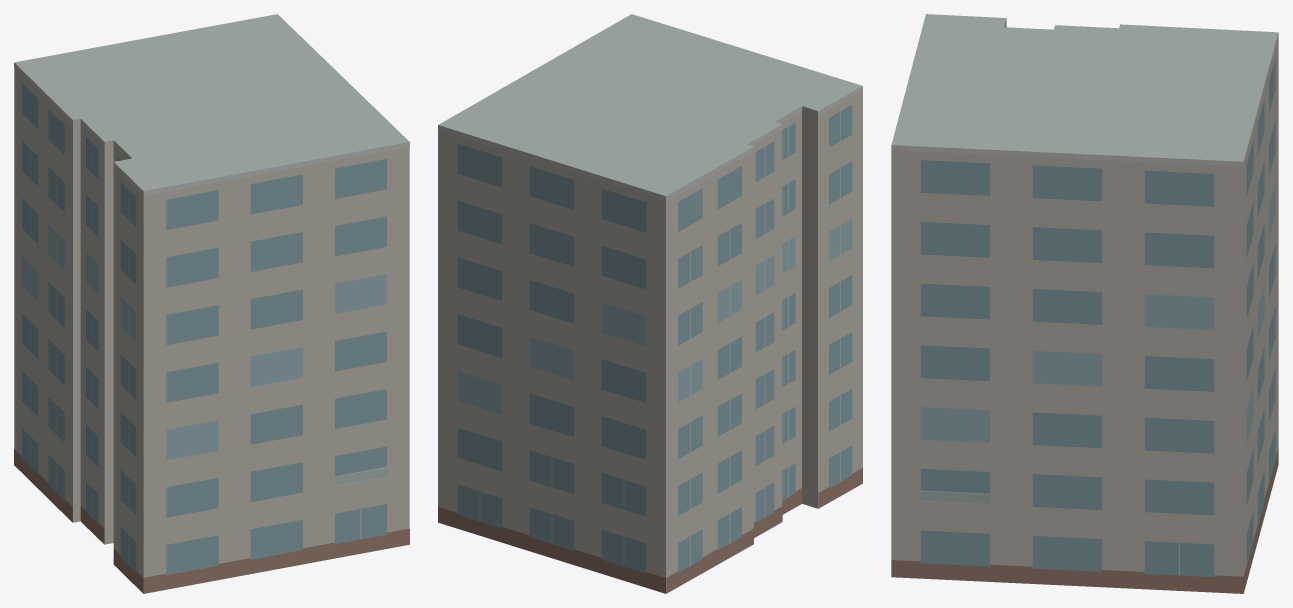
File: survey-upis-32565936.glb
3 views of the same model, side by side, from view 1: azimuth 30°, elevation 25°; view 2: azimuth 150°, elevation 25°; view 3: azimuth 270°, elevation 25° (orthographic). The views are drawn at different scales.
Parts seen in each view (by area): view 1: survey-upis-32565936.tmp; view 2: survey-upis-32565936.tmp; view 3: survey-upis-32565936.tmp.
Part boxes in pixels (x1=…): survey-upis-32565936.tmp: x1=14, y1=14, x2=409, y2=593; survey-upis-32565936.tmp: x1=438, y1=14, x2=862, y2=593; survey-upis-32565936.tmp: x1=891, y1=14, x2=1278, y2=593.
Bounding box in the file's own units: 15.26 × 20.8 × 16.9.
